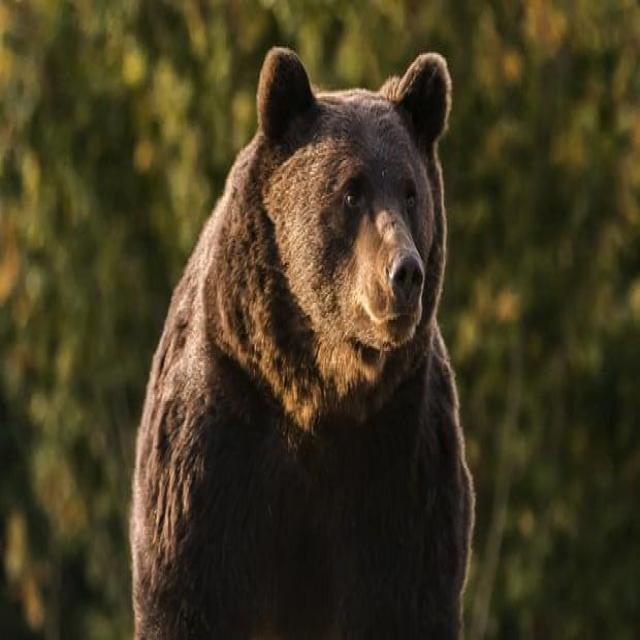Bear: (130, 46, 477, 640)
